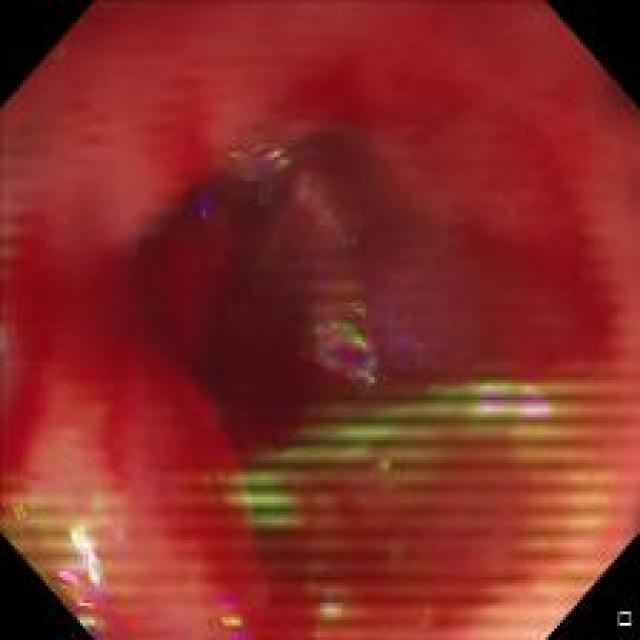color misalignment: (198, 394, 550, 534), (448, 331, 609, 634), (4, 470, 141, 636), (175, 120, 315, 244), (286, 295, 384, 388), (390, 282, 442, 386), (192, 582, 260, 636), (304, 584, 369, 630)
